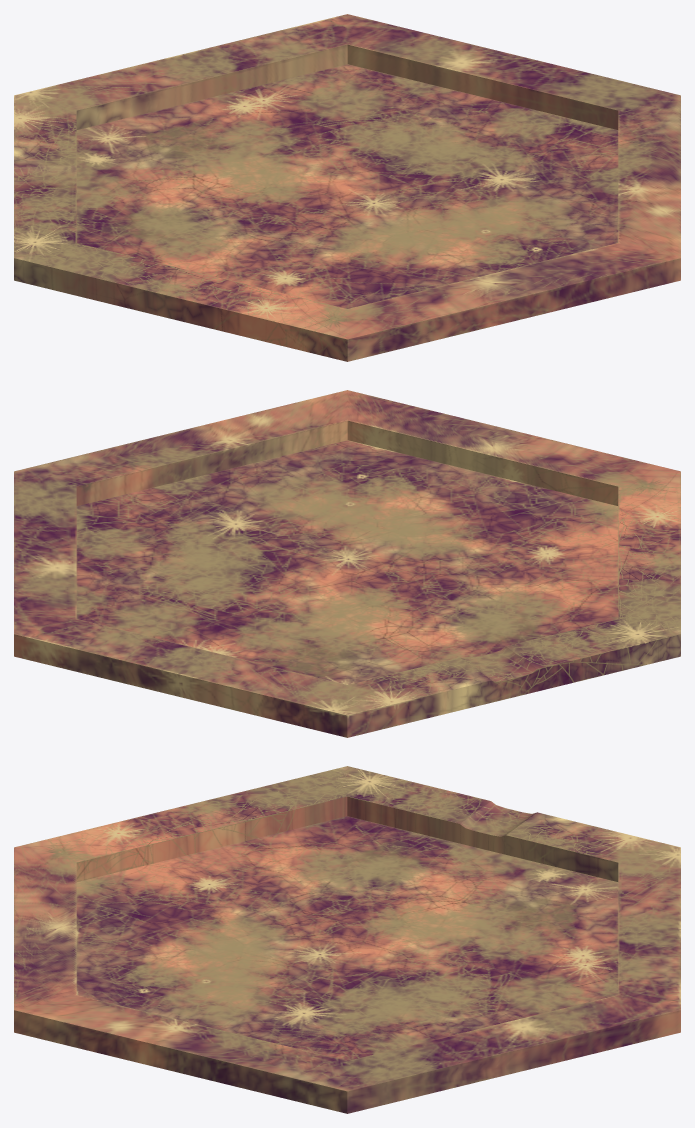
File: large_low_Pool.fbx
3 renders of one model, top to bottom at view 1: azimuth 30°, elevation 25°; view 2: azimuth 150°, elevation 25°; view 3: azimuth 270°, elevation 25°, orthographic.
Visible parts, largest first — view 1: large_low_Pool; view 2: large_low_Pool; view 3: large_low_Pool.
Part boxes in pixels (x1,y1,x2,y2): large_low_Pool: (14, 14, 680, 361); large_low_Pool: (14, 390, 680, 737); large_low_Pool: (14, 766, 680, 1113).
Size of the model in its own units: 1266 by 40.6 by 1096.
